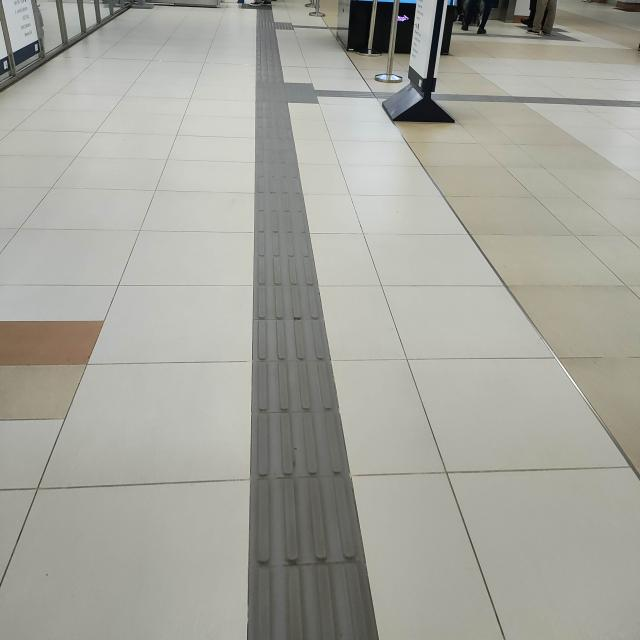lurus: (228, 94, 358, 640), (251, 13, 289, 74)
